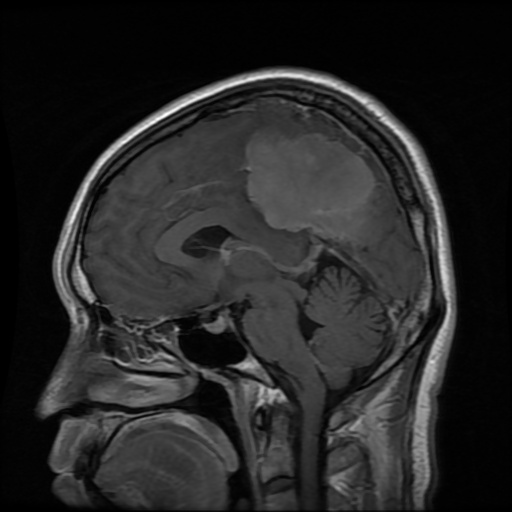meningioma: (244, 125, 390, 246)
